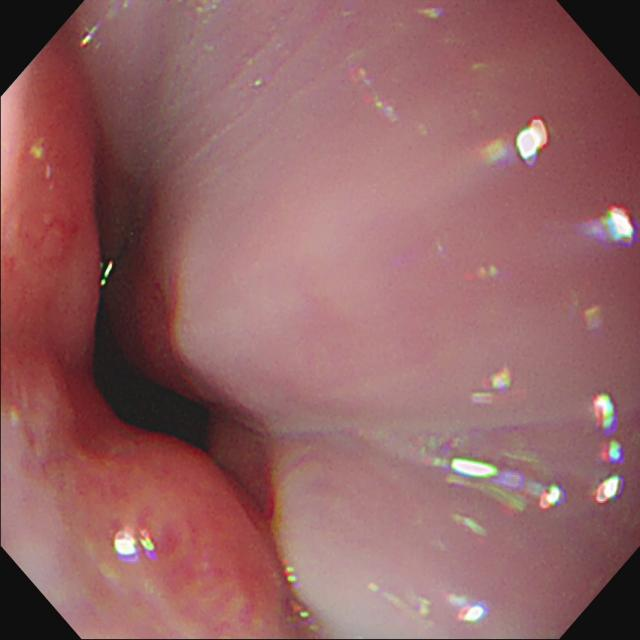E: (94, 309, 206, 455)
U: (447, 459, 565, 513), (583, 206, 639, 248), (517, 116, 550, 167), (115, 530, 158, 563), (595, 474, 627, 506), (594, 392, 617, 434), (459, 604, 489, 624), (602, 441, 624, 464)
